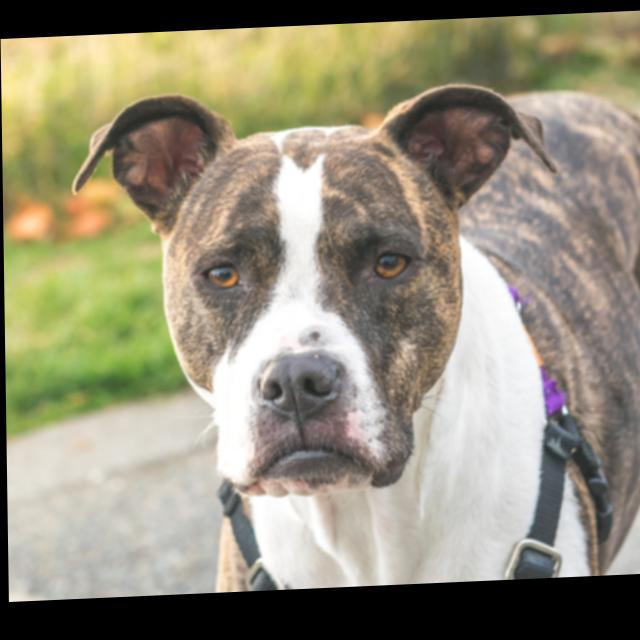am_pit_bull_terrier: (70, 76, 640, 598)
